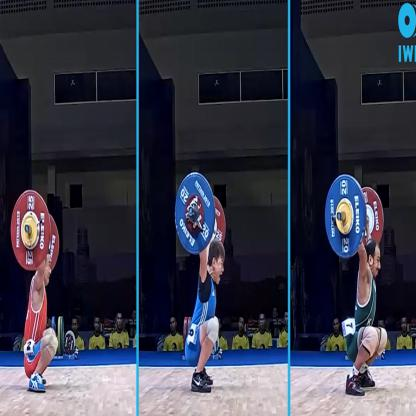Barbell: (175, 170, 218, 256), (10, 186, 51, 273)
